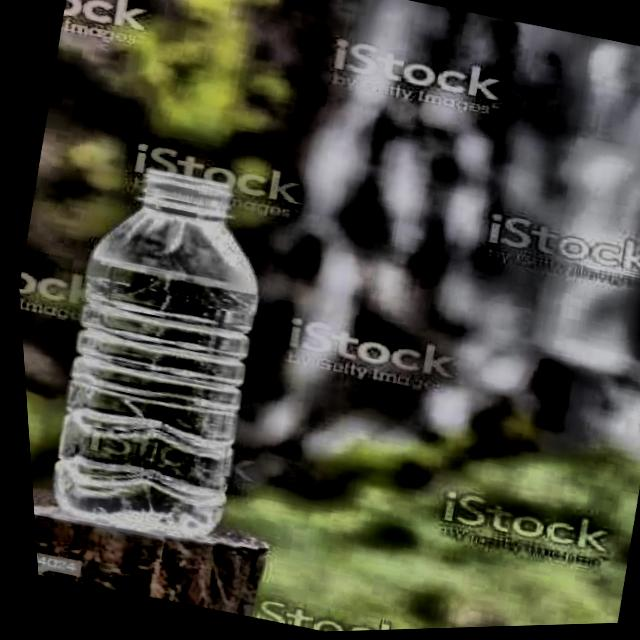Bottles: (6, 105, 326, 608)
